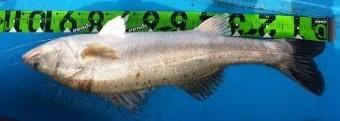fish: (23, 13, 326, 108)
